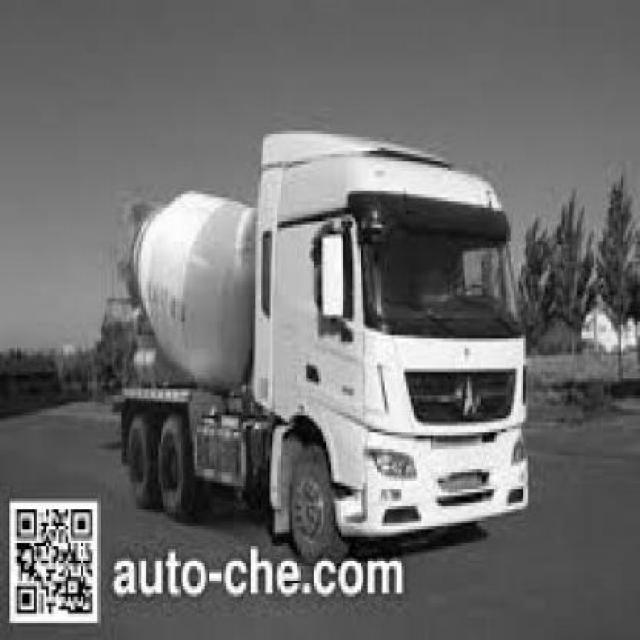Concrete Mixer: (118, 133, 531, 561)
